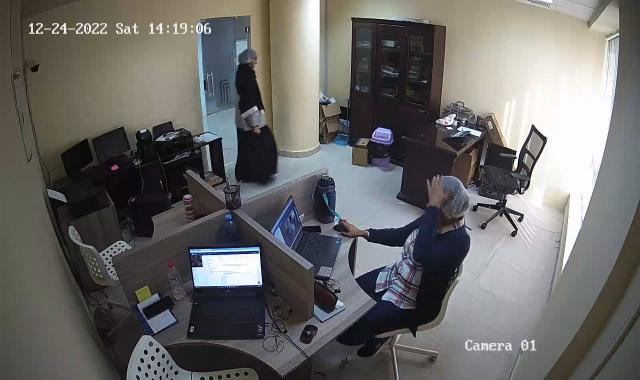hairnet: (440, 173, 471, 220), (239, 49, 258, 70)
